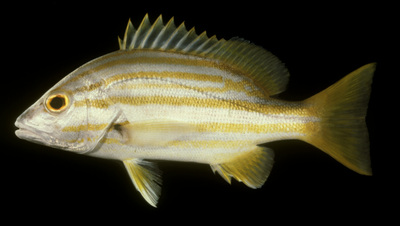fish: (14, 12, 375, 207)
